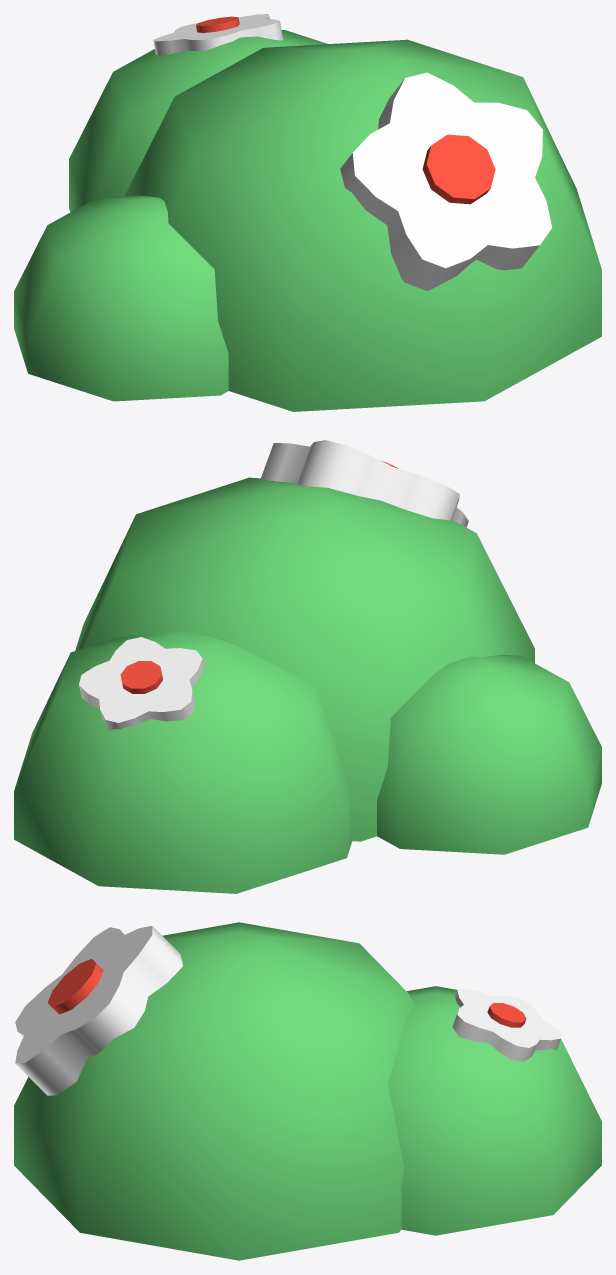
Rendered from Bush.fbx.
The picture shows the model from 3 angles, top to bottom: view 1: azimuth 30°, elevation 25°; view 2: azimuth 150°, elevation 25°; view 3: azimuth 270°, elevation 25°; orthographic projection. The views are drawn at different scales.
Parts seen in each view (by area): view 1: Bush; view 2: Bush; view 3: Bush.
Boxes of the visible parts, x1,y1,x2,y2 form: Bush: (14,14,601,411); Bush: (14,440,601,893); Bush: (14,922,601,1260).
Size of the model in its own units: 149 by 71.51 by 160.
